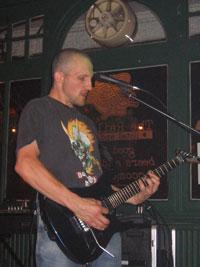person: (15, 48, 161, 267)
